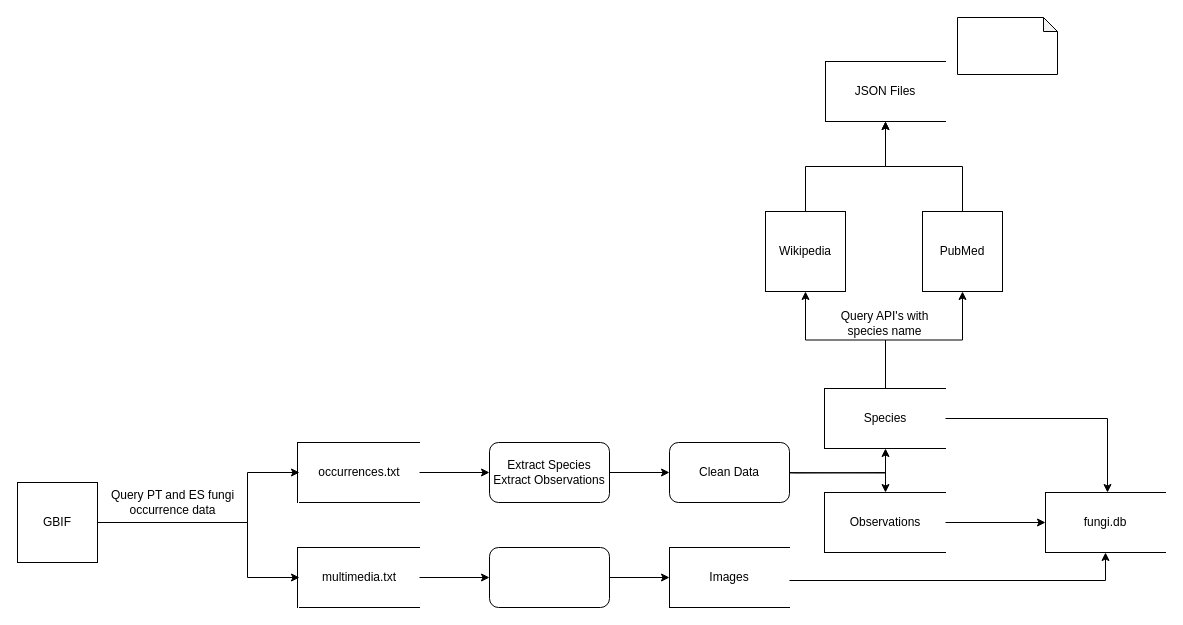
The diagram is 1183 pixels wide and 625 high, and some of its shapes have lost their labels. Each missing label, with the box of its shape:
Extract Images: (488, 546, 610, 608)
Individual JSON files indexed by species: (956, 16, 1058, 74)
